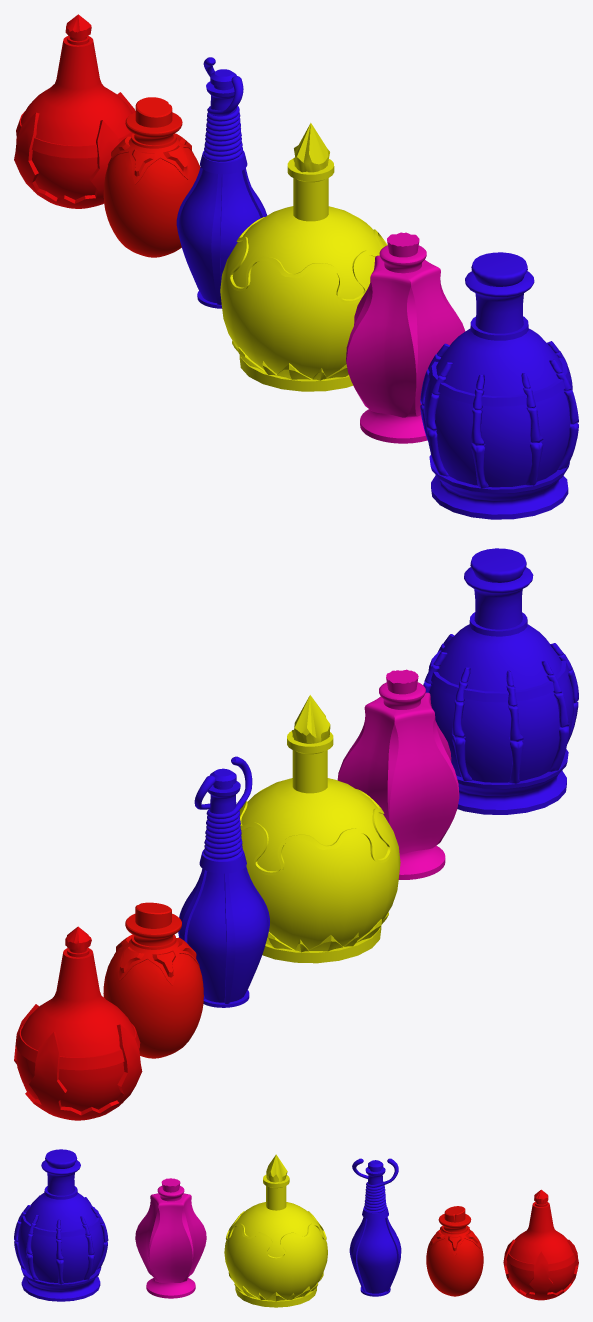
Rendered from PotionsComplete.fbx.
The picture shows the model from 3 angles, top to bottom: view 1: azimuth 30°, elevation 25°; view 2: azimuth 150°, elevation 25°; view 3: azimuth 270°, elevation 25°; orthographic projection. The views are drawn at different scales.
Parts seen in each view (by area): view 1: NecroticPotion, FrostPotion, DarknessPotion, FirePotion, NightEyePotion, WaterBreathingPotion; view 2: NecroticPotion, FrostPotion, FirePotion, DarknessPotion, NightEyePotion, WaterBreathingPotion; view 3: FrostPotion, NecroticPotion, DarknessPotion, FirePotion, NightEyePotion, WaterBreathingPotion.
Part boxes in pixels (left/top/right/bottom): NecroticPotion: left=420, top=252, right=578, bottom=519; FrostPotion: left=220, top=123, right=387, bottom=391; DarknessPotion: left=346, top=232, right=465, bottom=443; FirePotion: left=14, top=14, right=135, bottom=208; NightEyePotion: left=176, top=57, right=267, bottom=308; WaterBreathingPotion: left=103, top=97, right=200, bottom=257; NecroticPotion: left=423, top=548, right=578, bottom=814; FrostPotion: left=239, top=695, right=400, bottom=963; FirePotion: left=14, top=926, right=142, bottom=1120; DarknessPotion: left=337, top=669, right=459, bottom=879; NightEyePotion: left=178, top=756, right=269, bottom=1007; WaterBreathingPotion: left=103, top=902, right=203, bottom=1058; FrostPotion: left=224, top=1154, right=327, bottom=1307; NecroticPotion: left=14, top=1149, right=108, bottom=1301; DarknessPotion: left=135, top=1178, right=206, bottom=1298; FirePotion: left=503, top=1189, right=578, bottom=1300; NightEyePotion: left=349, top=1158, right=401, bottom=1296; WaterBreathingPotion: left=426, top=1206, right=483, bottom=1296.
Size of the model in its own units: 2403 by 3646 by 13080.
